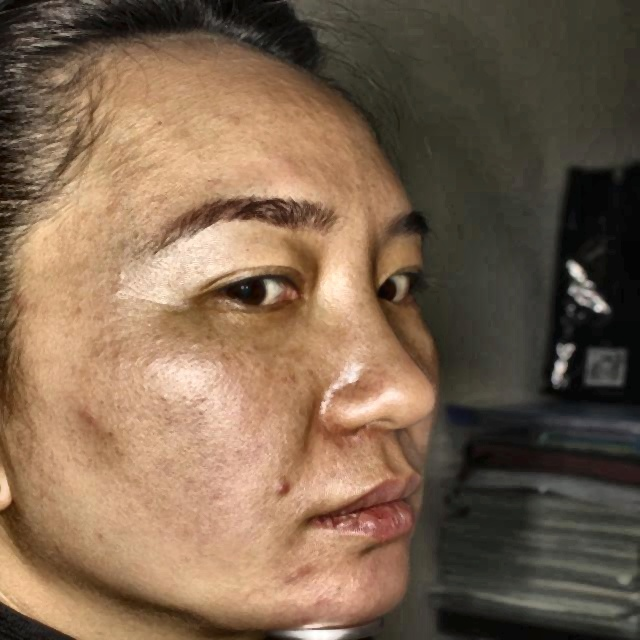comedone: (71, 401, 114, 442), (267, 476, 300, 495)
